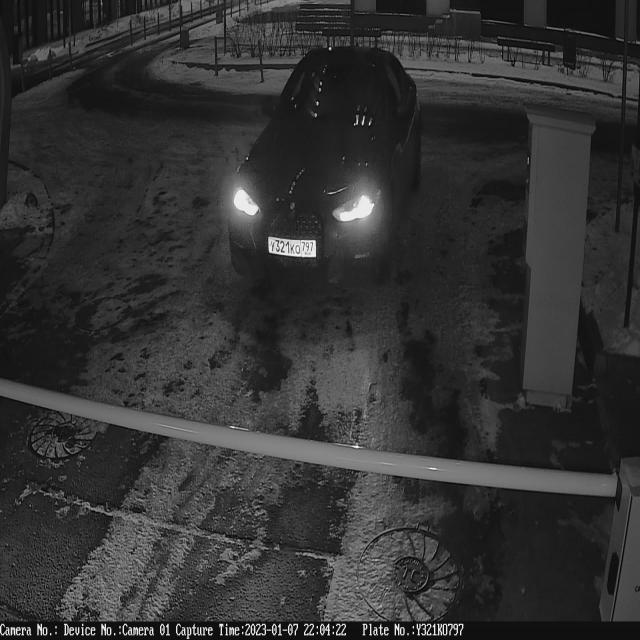car-plate-numbers: (267, 233, 319, 263)
